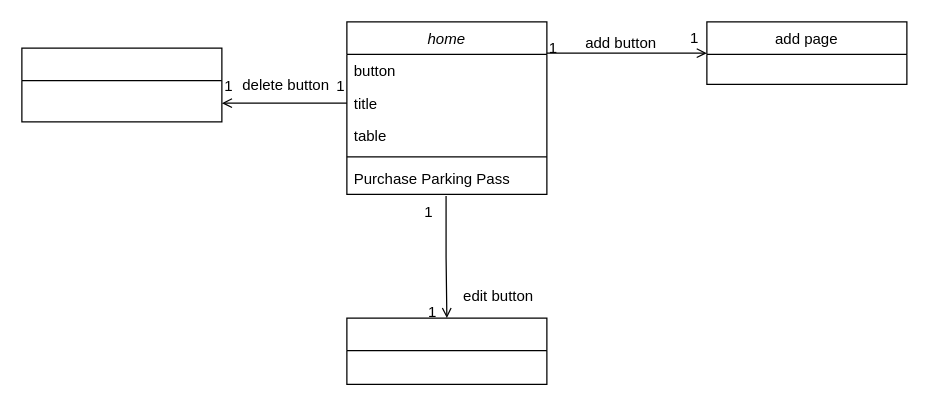
Image size: 929x406. Some labels were removed from this diagram. Here are the shapes that lost their labels. From the top down, the centre of each, then its label:
the point at 121,84: delete page
the point at 446,350: edit page
